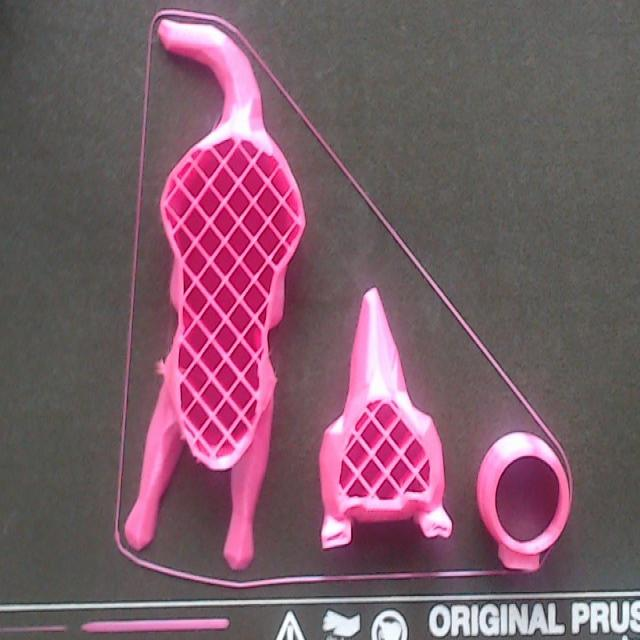mistake: (270, 349, 282, 375), (155, 361, 167, 377), (193, 459, 206, 468), (180, 436, 188, 447)
